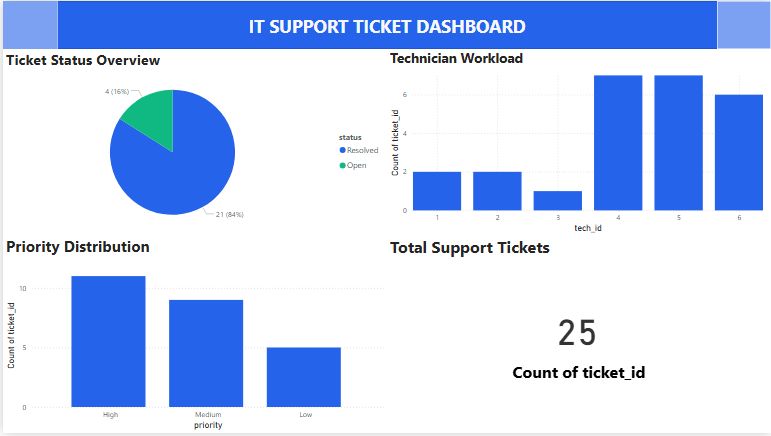

What the dashboard file says about the page in this screenshot:
{"tool":"powerbi","page":{"name":"Page 1","canvas":[1280,720],"ordinal":0},"visuals":[{"type":"pieChart","title":"Ticket Status Overview","fields":{"Category":["support_tickets.status"],"Y":["CountNonNull(support_tickets.ticket_id)"]},"box":[0,80,640,312],"z":0},{"type":"columnChart","title":"Technician Workload","fields":{"Category":["support_tickets.tech_id"],"Y":["CountNonNull(support_tickets.ticket_id)"]},"box":[640,80,640,312],"z":1000},{"type":"advanceCardE03760C5AB684758B56AA29F9E6C257B","title":"Total Support Tickets","fields":{"mainMeasure":["CountNonNull(support_tickets.ticket_id)"]},"box":[640,392,640,328],"z":2000},{"type":"columnChart","title":"Priority Distribution","fields":{"Category":["support_tickets.priority"],"Y":["CountNonNull(support_tickets.ticket_id)"]},"box":[0,392,640,328],"z":3000},{"type":"shape","box":[0,0,1280,80],"z":4000},{"type":"shape","box":[0,0,90.6,80],"z":5000},{"type":"shape","box":[1190,0,90,80],"z":6000}]}

Visuals, with their boxes in screenshot pixels (x1, y1, x2, y2), scaled from the page's 1280x720 canvas onto the 771x436 screenshot:
"Ticket Status Overview" pieChart: crop(0, 48, 386, 237)
"Technician Workload" columnChart: crop(386, 48, 770, 237)
"Total Support Tickets" advanceCardE03760C5AB684758B56AA29F9E6C257B: crop(386, 237, 770, 435)
"Priority Distribution" columnChart: crop(0, 237, 386, 435)
shape: crop(0, 0, 770, 48)
shape: crop(0, 0, 55, 48)
shape: crop(717, 0, 770, 48)
